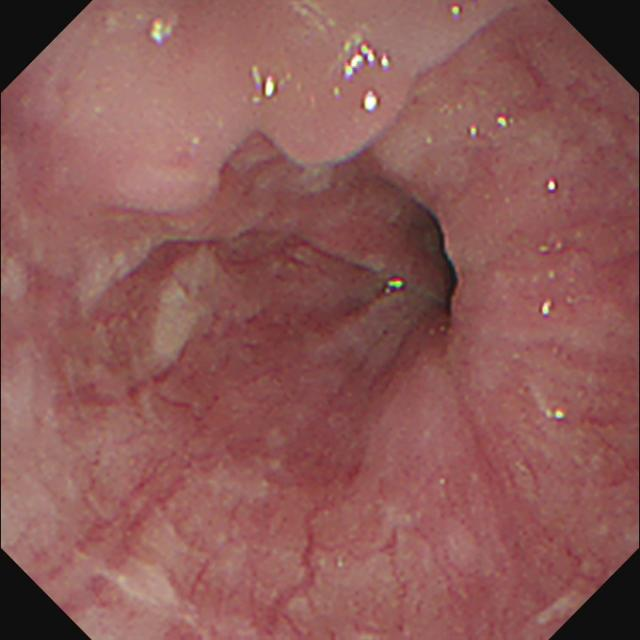A: (277, 370, 392, 503), (104, 146, 226, 221), (267, 115, 393, 176)
E: (427, 208, 464, 338)
J: (110, 504, 235, 627), (152, 244, 258, 366)
U: (342, 42, 393, 79), (146, 12, 180, 53), (251, 67, 278, 108), (540, 169, 568, 198), (494, 111, 522, 135), (533, 298, 562, 319), (446, 4, 472, 20), (384, 276, 406, 294), (363, 93, 381, 114), (468, 123, 483, 142)
